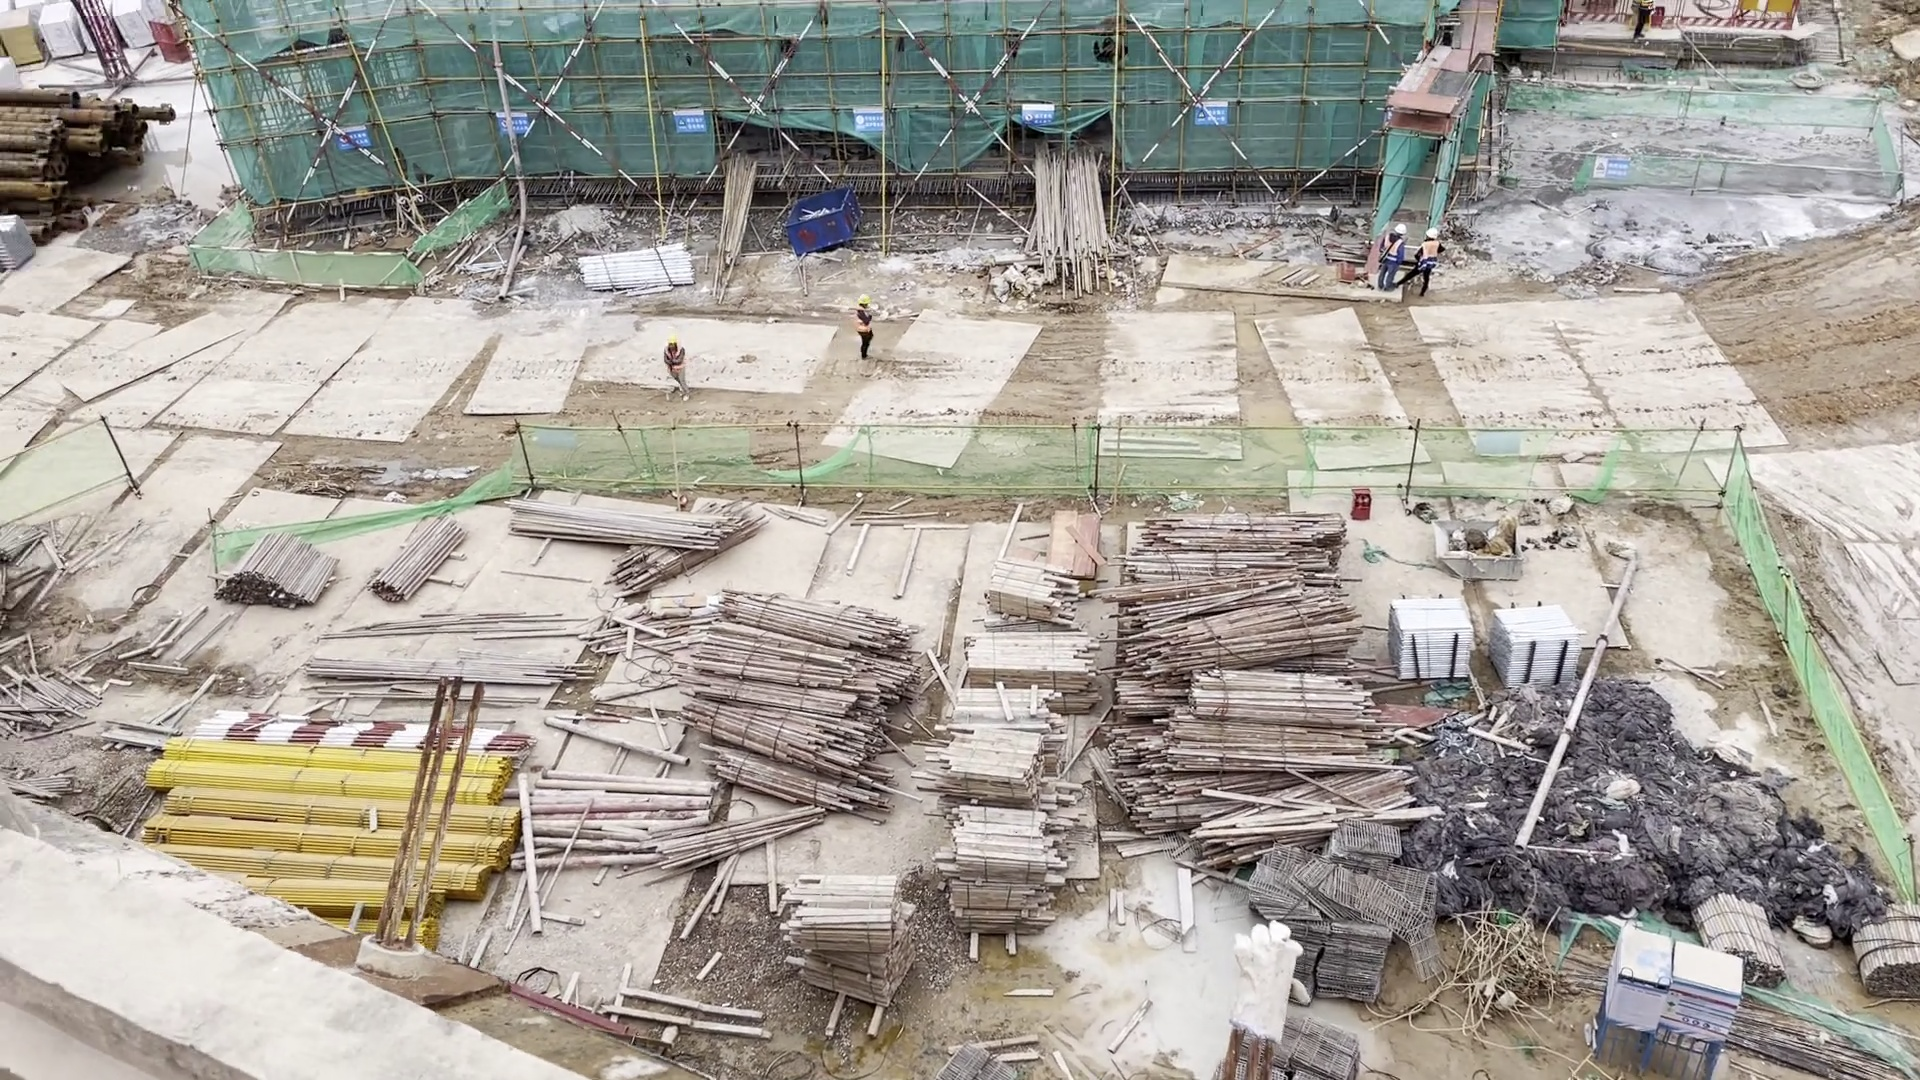helmet: (1425, 225, 1439, 240), (858, 292, 871, 306), (1395, 223, 1408, 236), (668, 333, 681, 344)
hopper: (1430, 521, 1525, 583), (784, 186, 862, 255)
person: (1396, 227, 1444, 294), (660, 336, 692, 404), (1377, 224, 1408, 292), (856, 292, 875, 361), (1629, 1, 1656, 41)
slogan: (852, 106, 887, 134), (1193, 98, 1229, 127), (1593, 154, 1629, 183), (334, 127, 373, 152), (671, 109, 708, 136), (495, 111, 531, 136), (1022, 103, 1058, 126)
vest: (663, 343, 687, 371), (1383, 234, 1404, 262), (1419, 240, 1440, 269), (856, 307, 873, 333)
wood: (782, 870, 915, 1006), (934, 804, 1069, 932), (942, 684, 1068, 774), (964, 629, 1097, 714), (917, 722, 1048, 804), (986, 557, 1080, 626)
